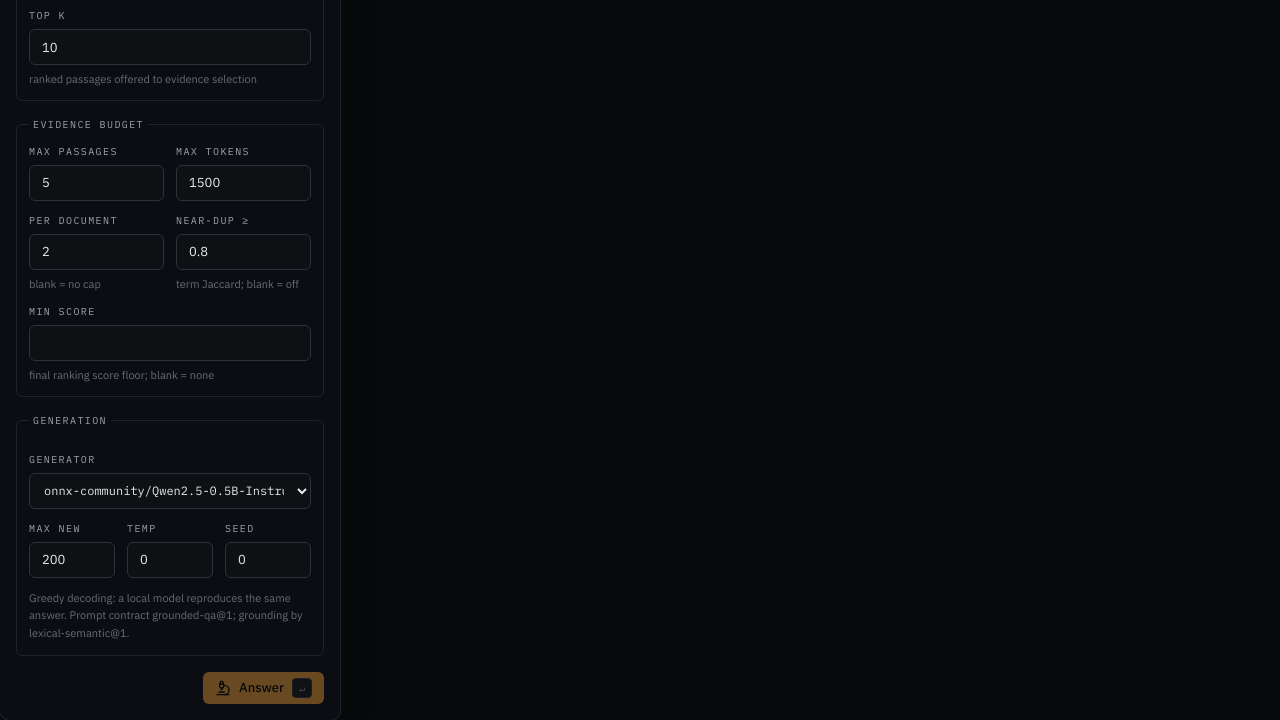
Test: Evidence Lab › shows an explicit insufficient-evidence result and supports context-only runs
(page scrolled)
Select "none: stop after context" in the dropdown labelled "Generator" at (170, 490), box [29,472,311,508]
(page scrolled)
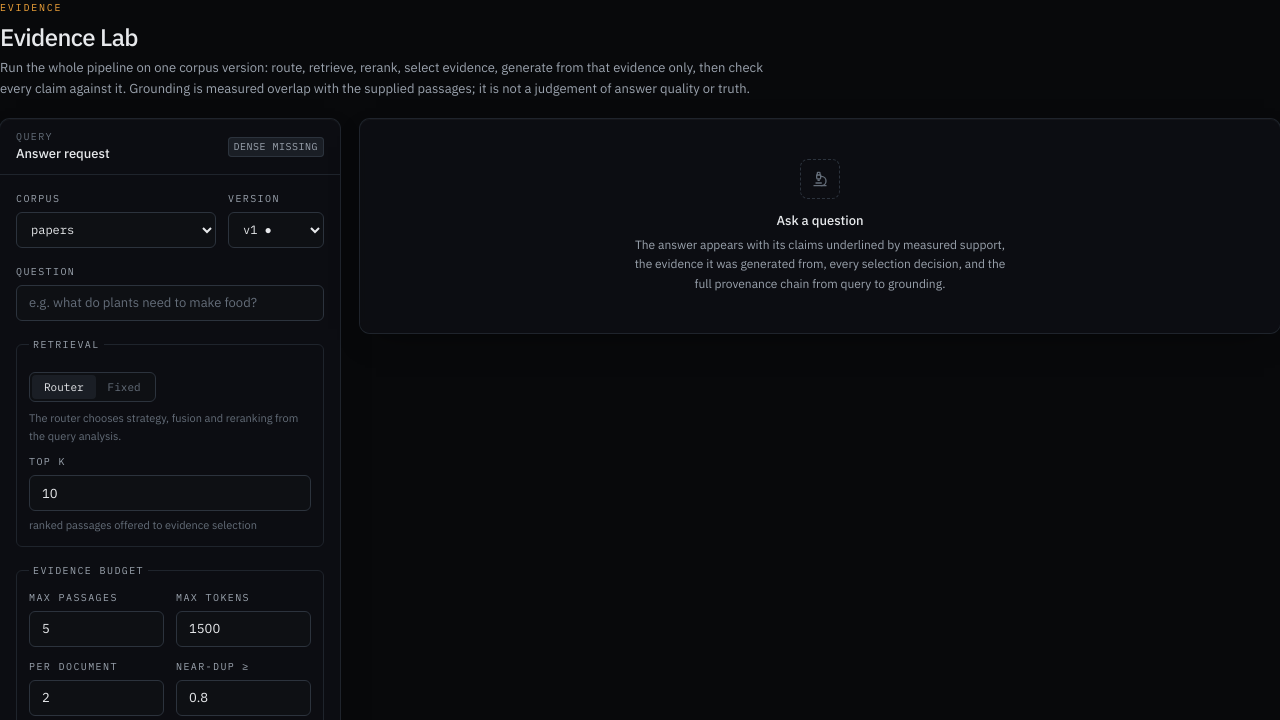
Expected: the label labelled "Temp" is gone
Type "capital of France" into the field labelled "Question".
click(170, 303); type("capital of France")  # box [16,285,324,321]
Then press Enter
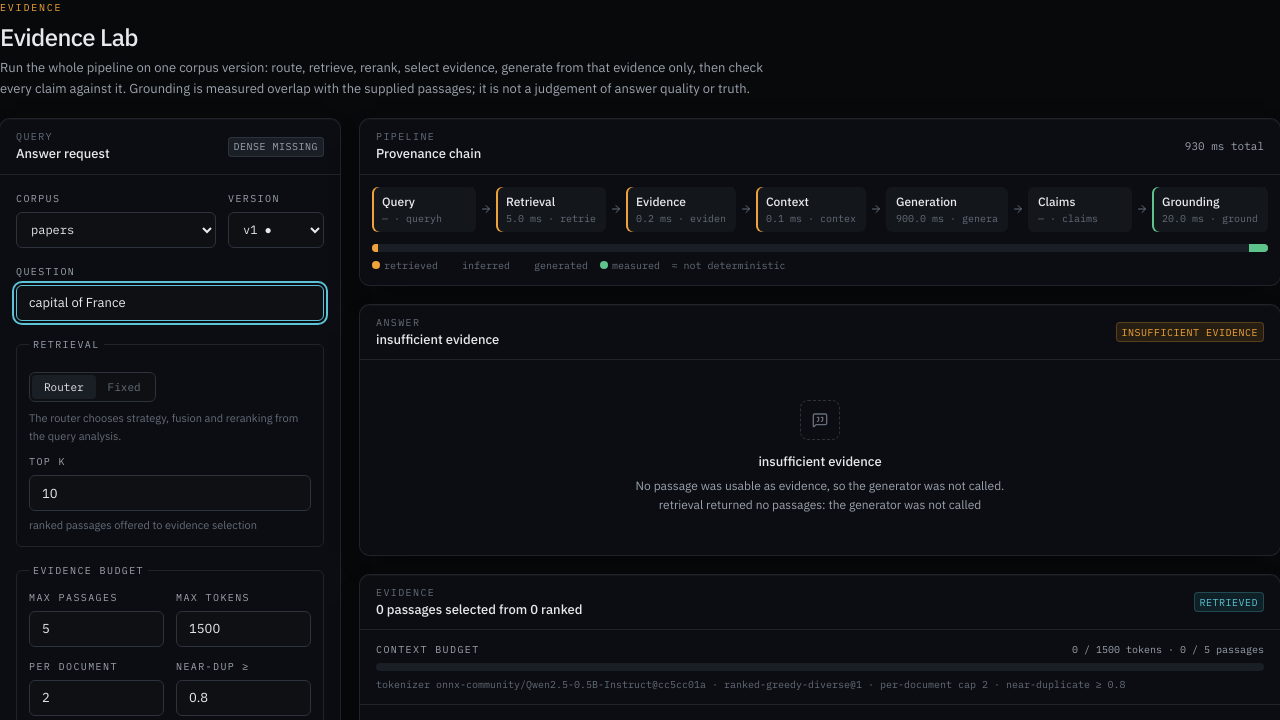
Expected: the text "the generator was not called" is shown, [636,478,1004,493]
Expected: the heading "insufficient evidence" is shown, [376,330,499,349]
